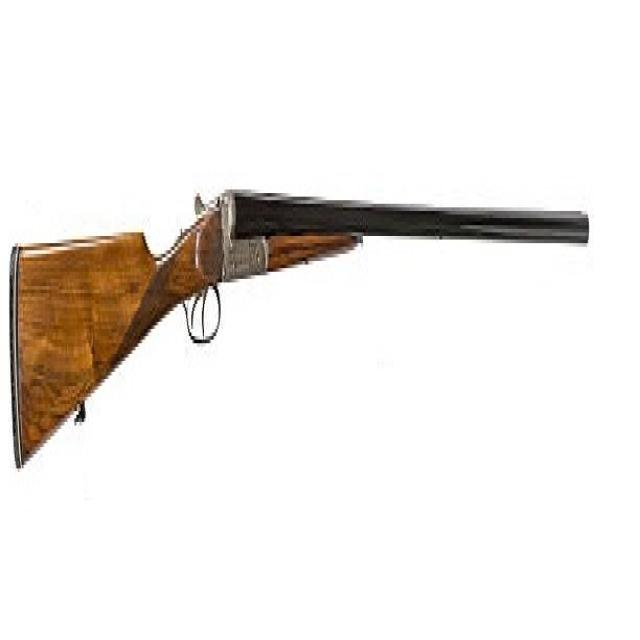rifle: (7, 167, 591, 497)
